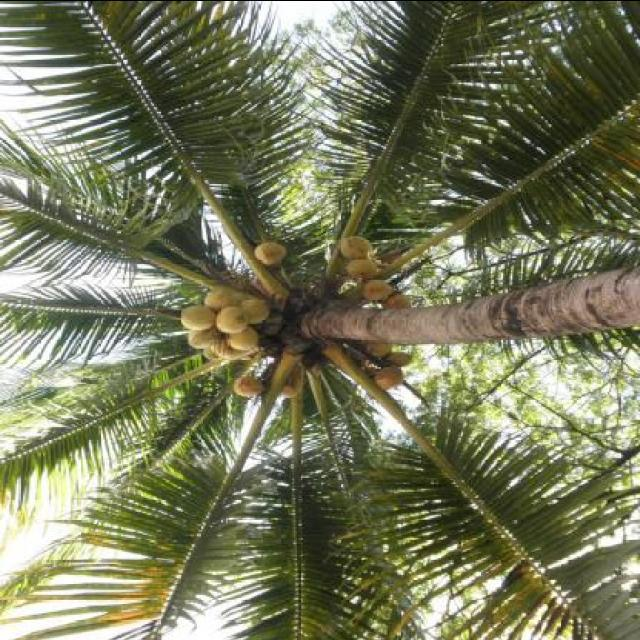Coconut: (178, 234, 416, 398)
